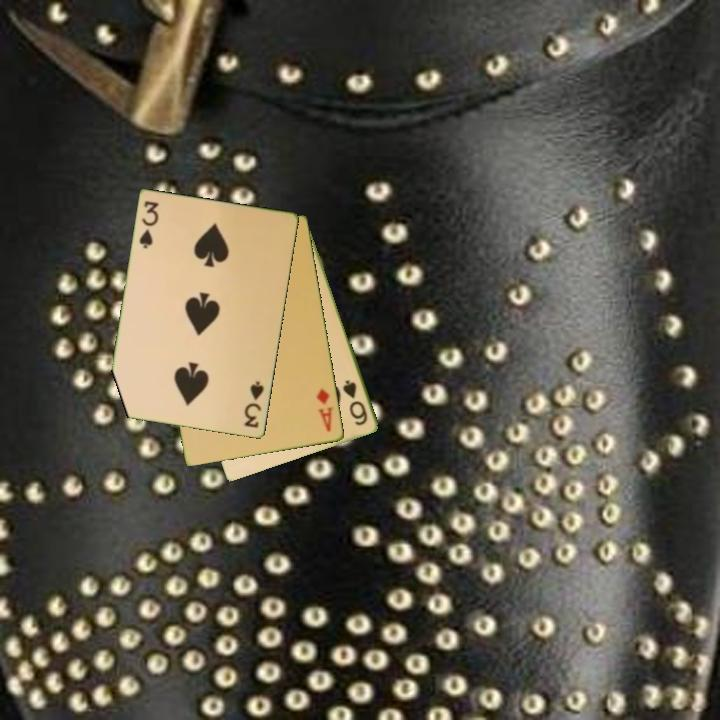3s: (240, 378, 267, 431), (136, 198, 162, 252)
6s: (340, 377, 371, 429)
Ad: (313, 385, 336, 435)
